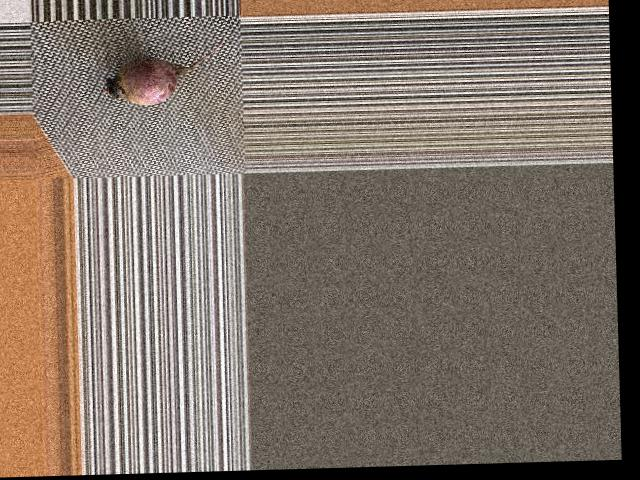beet: (101, 35, 227, 105)
